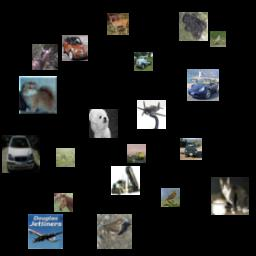airplane: (28, 214, 63, 249), (137, 100, 166, 129)
automobile: (2, 135, 40, 173), (187, 69, 219, 101), (62, 35, 88, 61), (180, 138, 202, 160)
bird: (97, 214, 132, 249), (161, 188, 180, 207), (210, 31, 226, 47)
cat: (211, 177, 249, 215), (19, 76, 57, 114)
deer: (32, 44, 58, 70), (107, 13, 129, 35), (56, 148, 75, 167)
dog: (89, 109, 118, 138)
frog: (179, 12, 208, 41)
truck: (111, 166, 140, 195), (127, 144, 146, 163), (134, 52, 153, 71)
